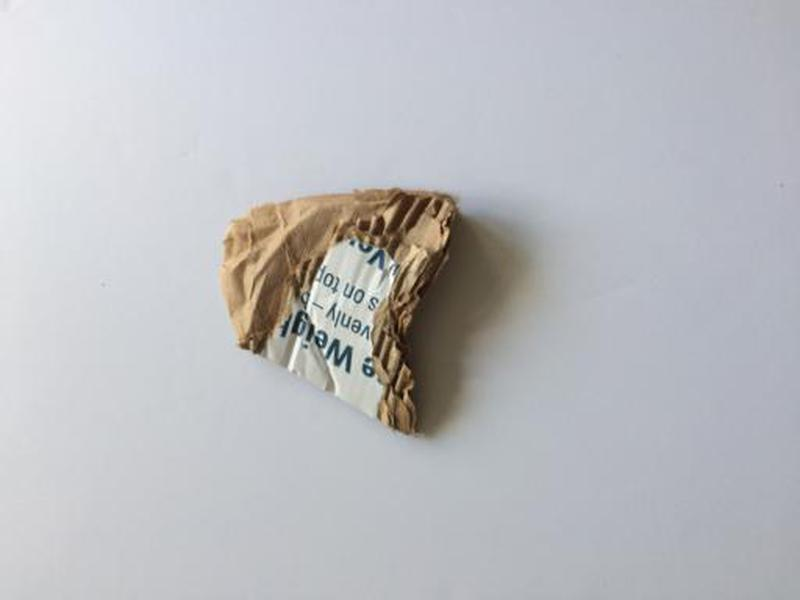cardboard: (219, 184, 462, 438)
